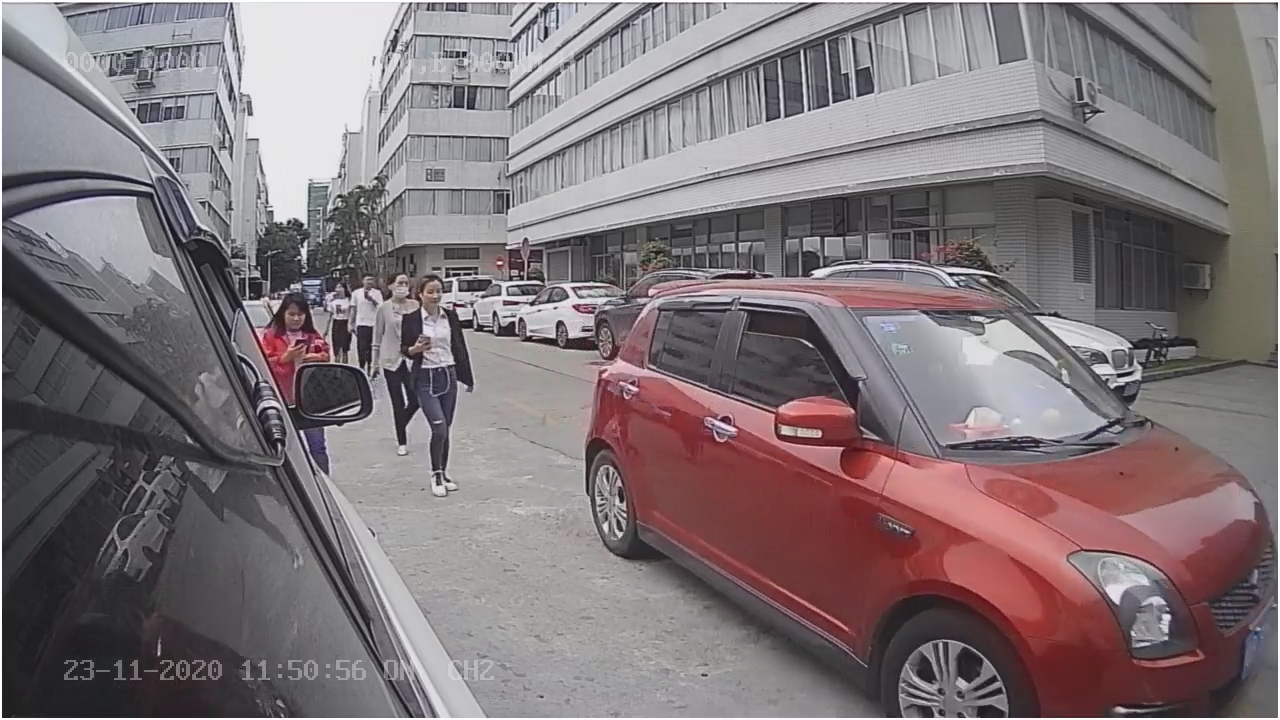person: (394, 273, 492, 496)
